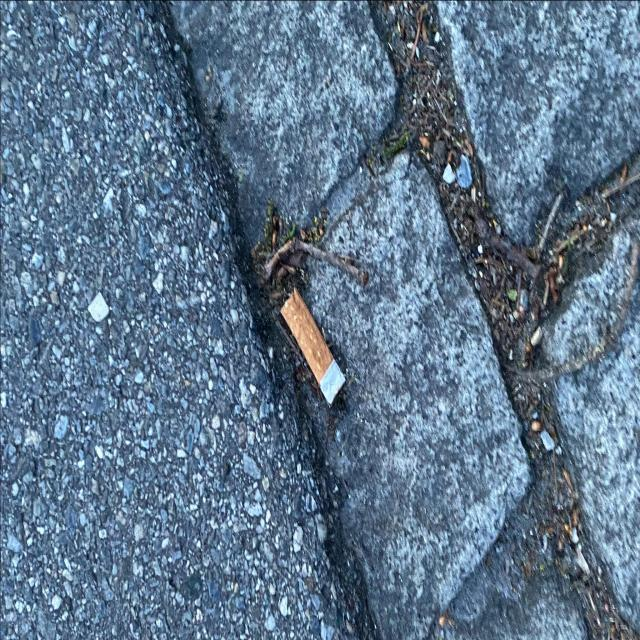other waste: (280, 285, 347, 406)
